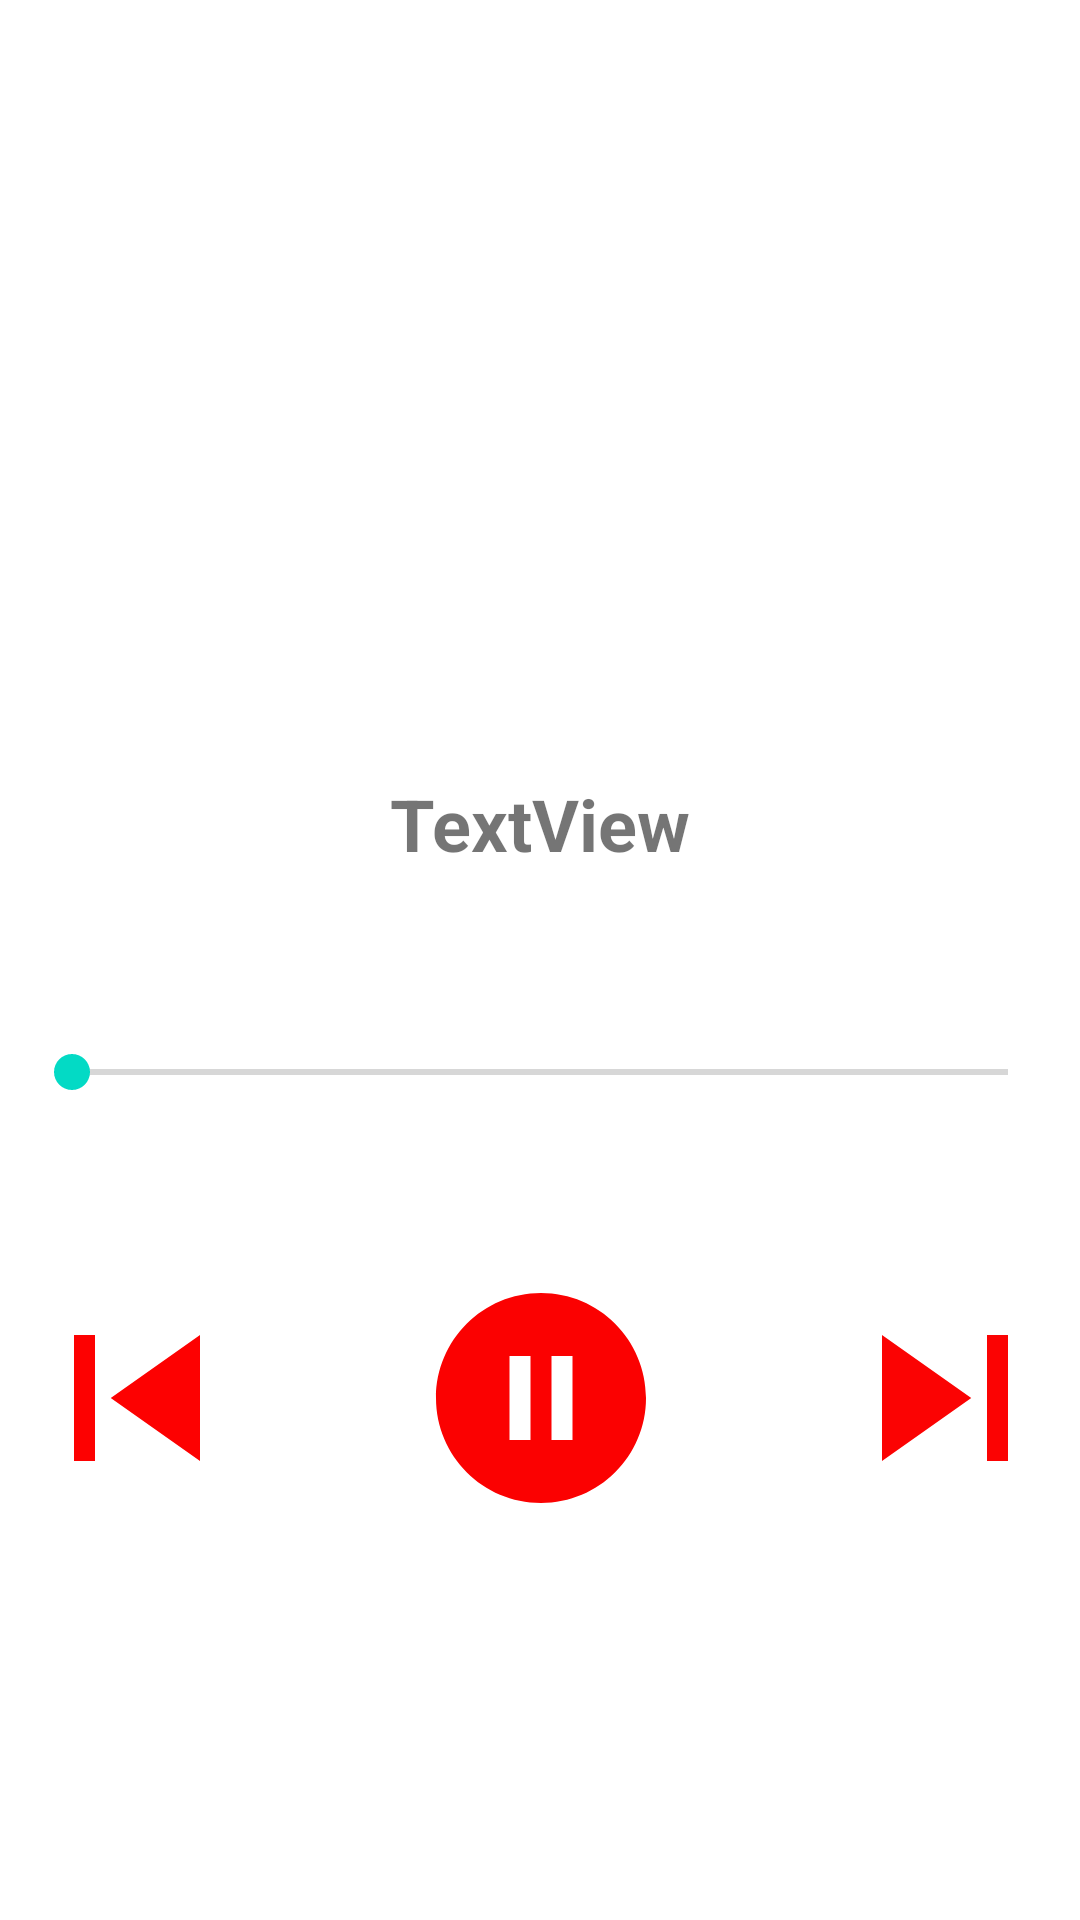

Where to tap for icons on this 1080px x 1920px app screen, as (x=x, y=y):
pause: (x=541, y=1398)
